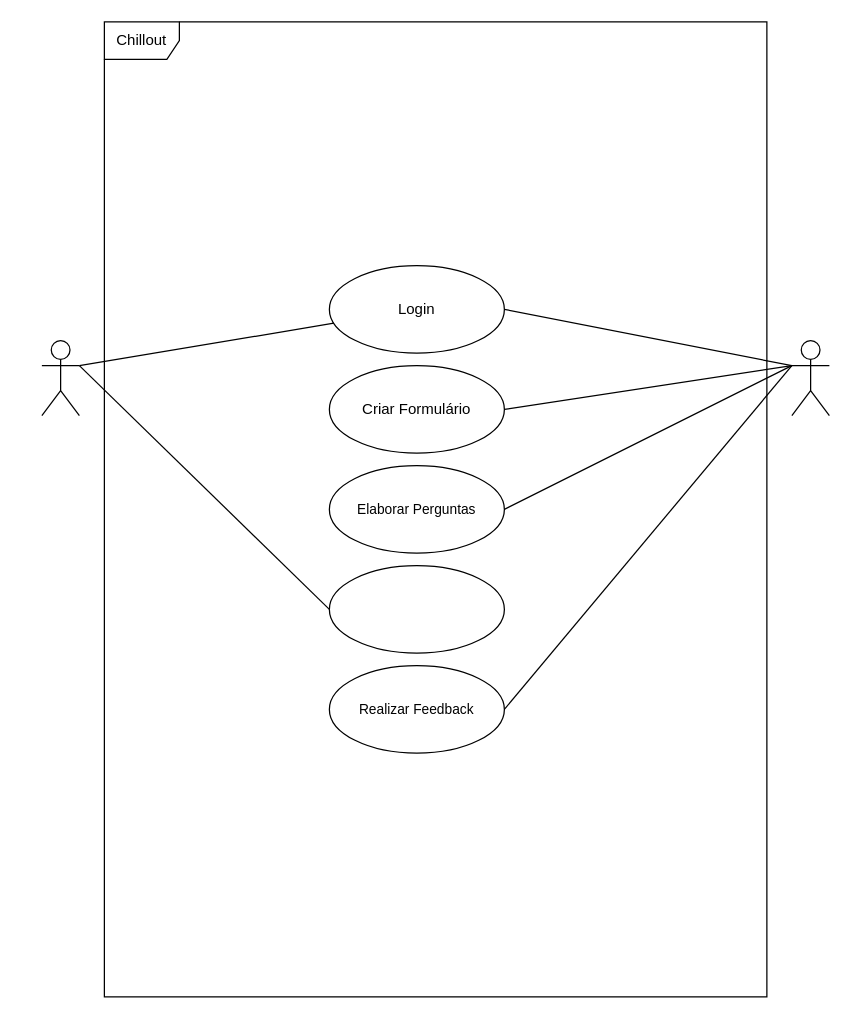
The diagram is 865 pixels wide and 1019 high, and some of its shapes have lost their labels. Each missing label, with the centre of its shape:
"Funcionario" goes at point (60, 377).
"Psicologo" goes at point (810, 377).
"Responder Formulário" goes at point (416, 608).
